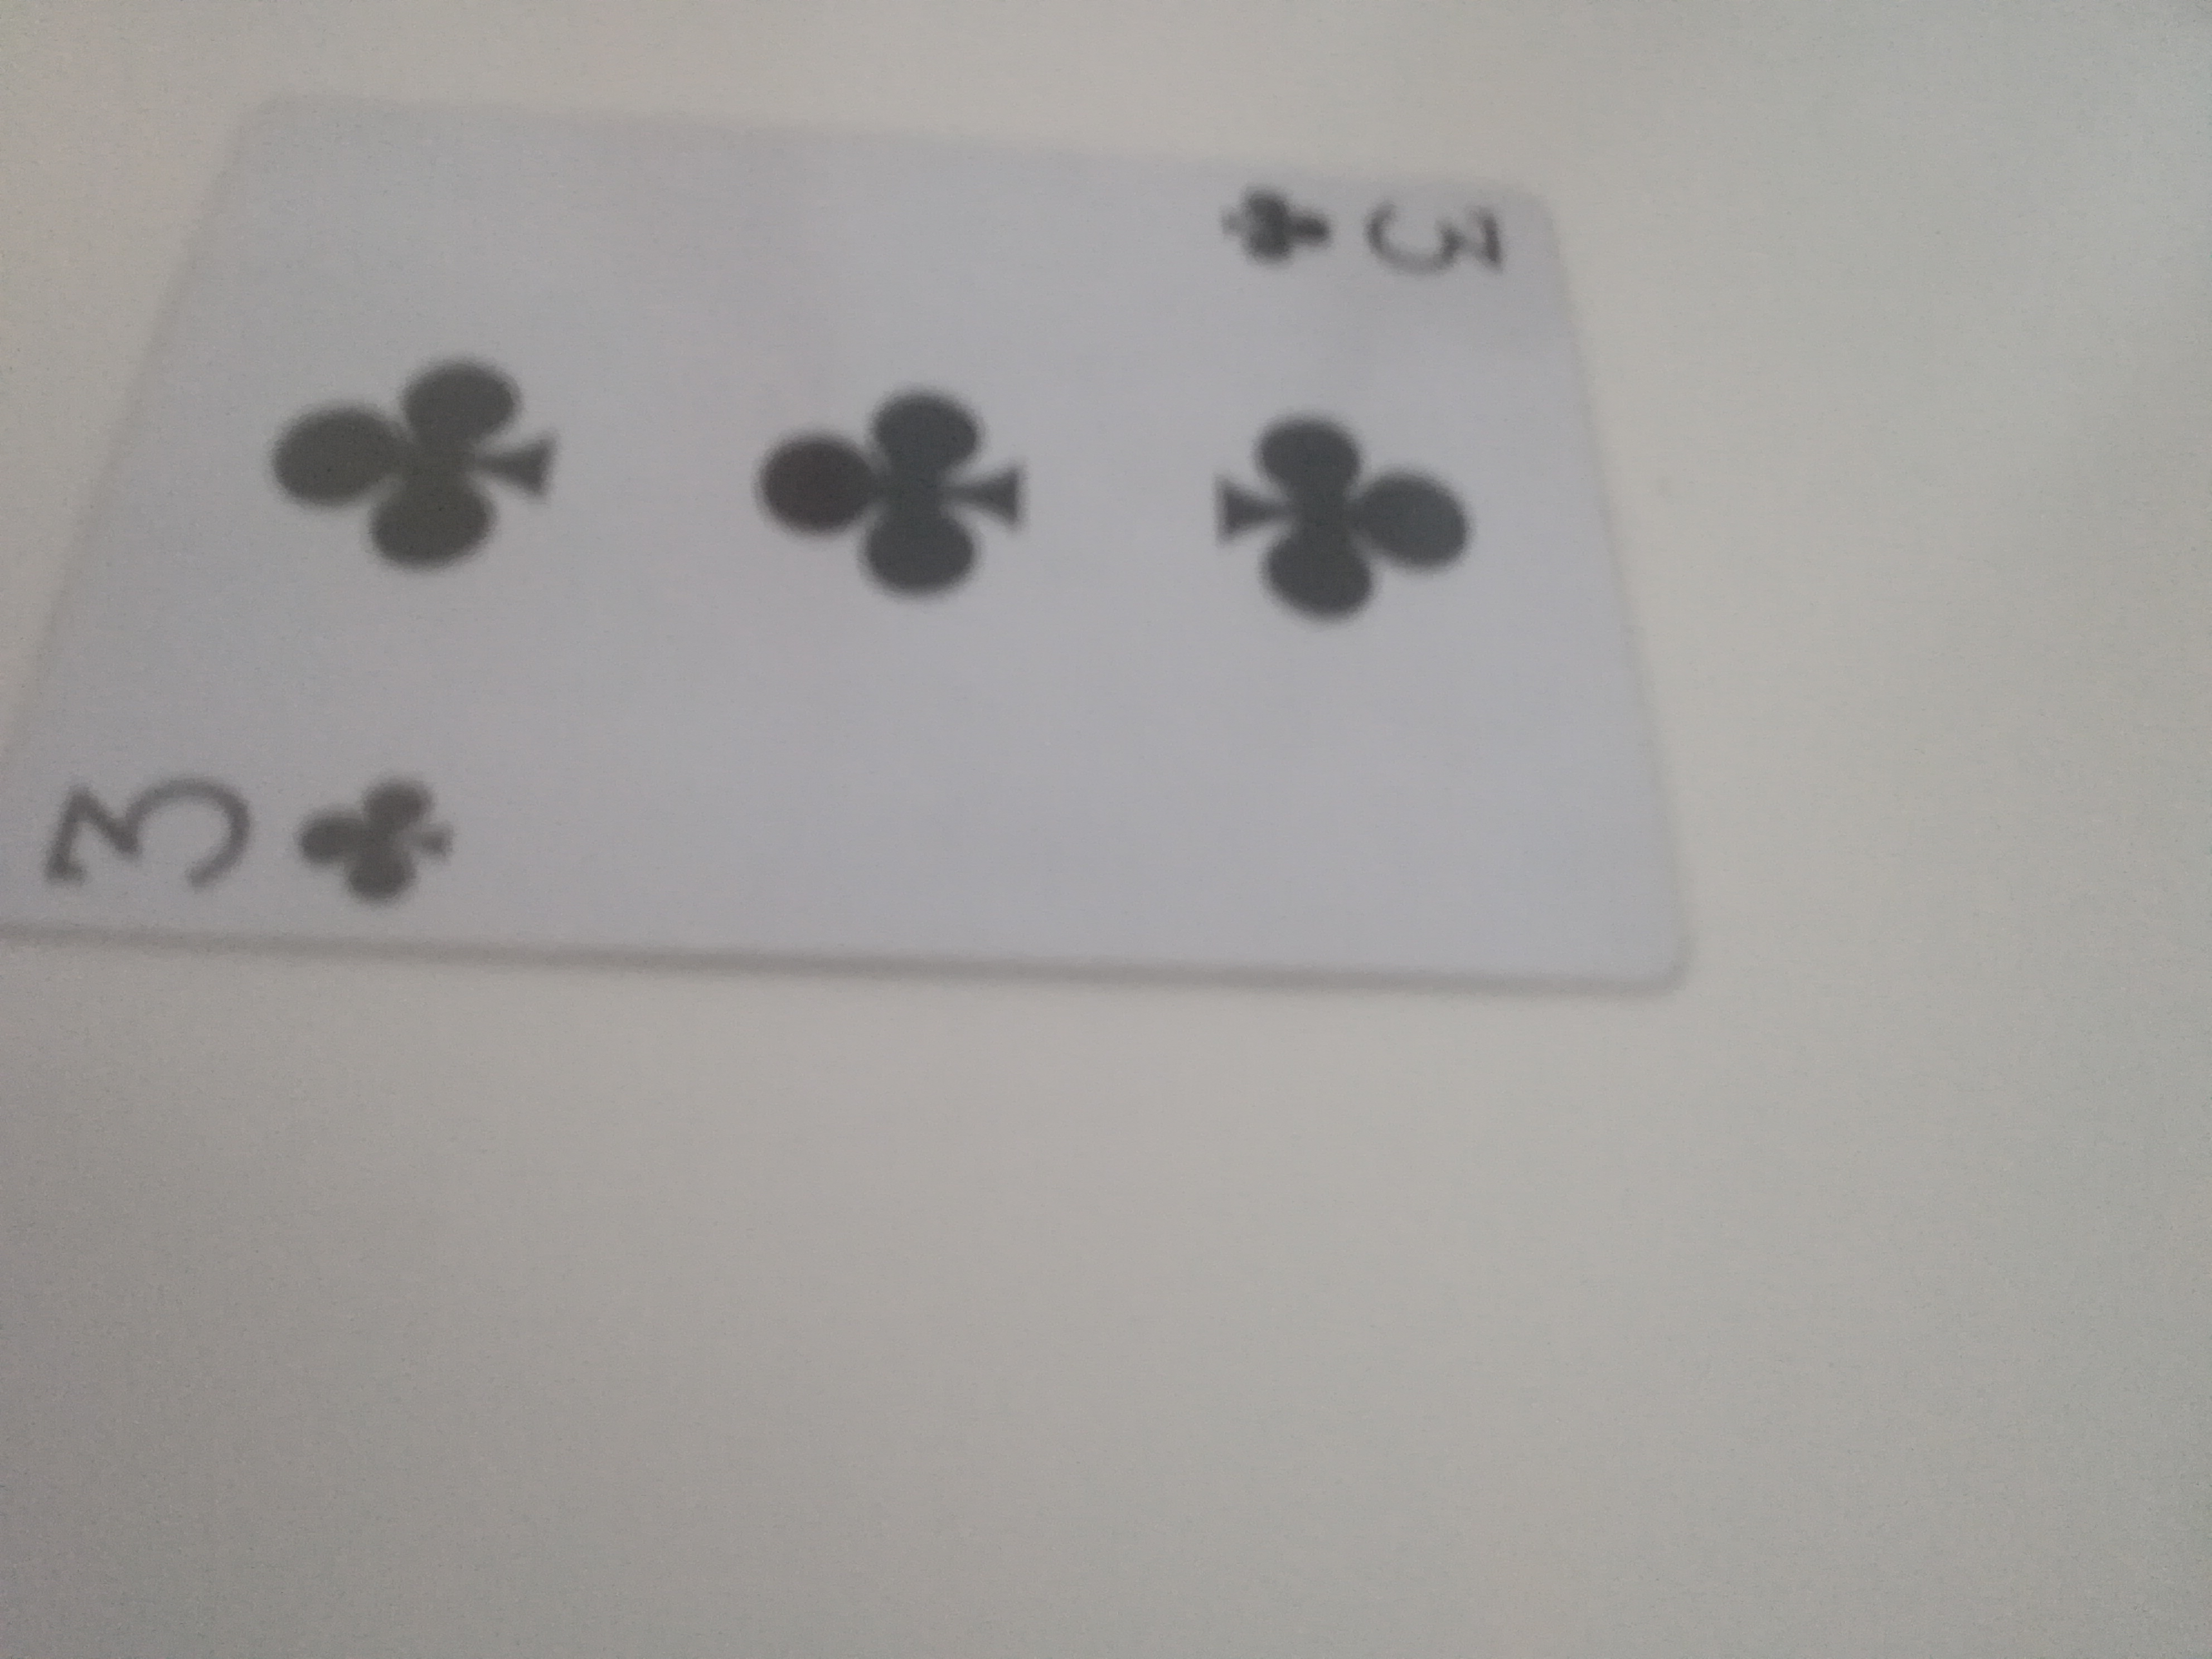3C: (0, 99, 1721, 1019)
